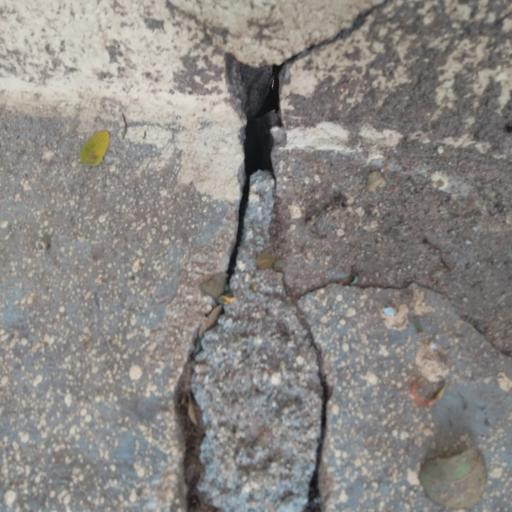major_crack: (164, 0, 404, 512)
